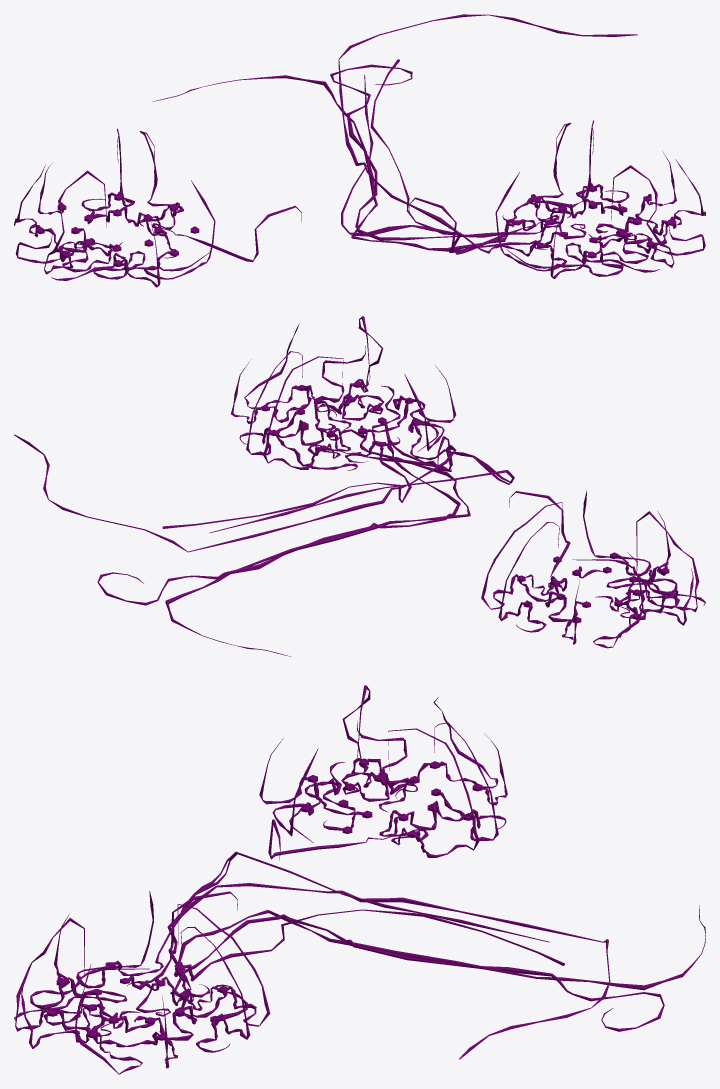
The model's file is raizes.fbx.
The picture shows the model from 3 angles, top to bottom: view 1: azimuth 30°, elevation 25°; view 2: azimuth 150°, elevation 25°; view 3: azimuth 270°, elevation 25°; orthographic projection. The views are drawn at different scales.
Visible parts, largest first — view 1: raizes; view 2: raizes; view 3: raizes.
Boxes of the visible parts, box(x1,y1,x2,y2) form: raizes: box(14, 14, 705, 287); raizes: box(14, 316, 705, 656); raizes: box(14, 685, 705, 1074).
Bounding box in the file's own units: 50.19 × 7.02 × 40.67.
